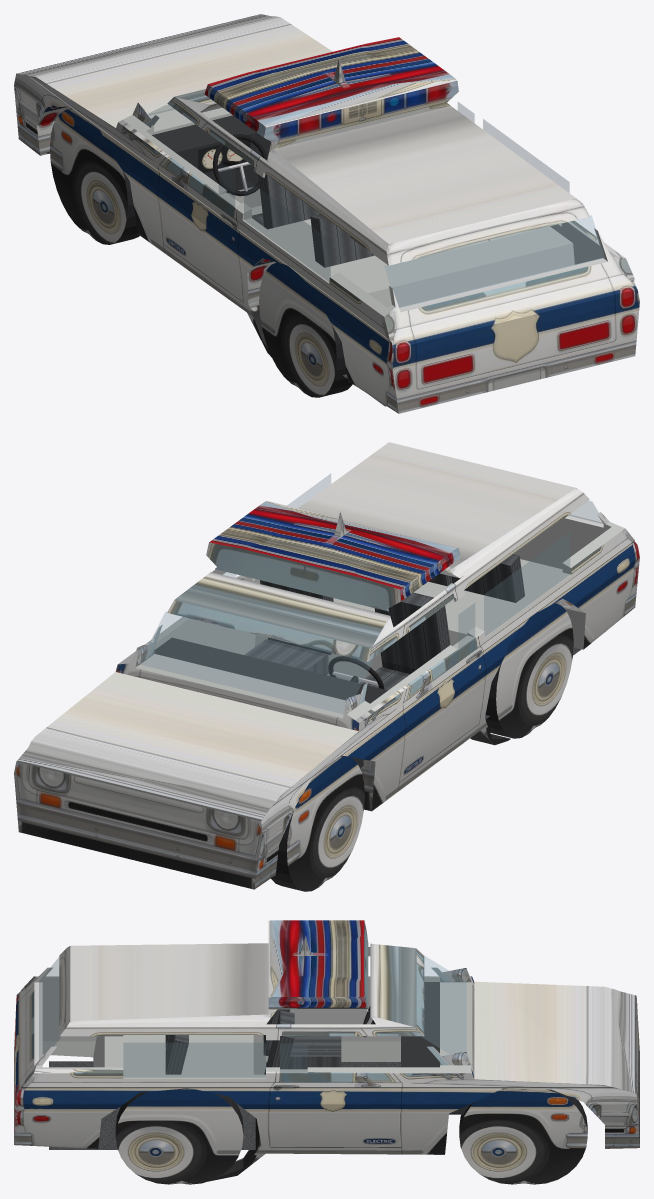
Rendered from police_suv.glb.
3 renders of one model, top to bottom at view 1: azimuth 30°, elevation 25°; view 2: azimuth 150°, elevation 25°; view 3: azimuth 270°, elevation 25°, orthographic. The views are drawn at different scales.
Parts seen in each view (by area): view 1: police_suv, police_suv_cabin, wheel_BL, wheel_FL, wheel_M1L, wheel_M2L; view 2: police_suv, police_suv_cabin, wheel_FL, wheel_M2L, wheel_BL, wheel_M1L; view 3: police_suv, police_suv_cabin, wheel_FR, wheel_BR, wheel_M2R, wheel_M1R.
Part boxes in pixels (bbox=[...]): police_suv: bbox=[14, 14, 639, 413]; police_suv_cabin: bbox=[148, 102, 604, 406]; wheel_BL: bbox=[274, 272, 352, 397]; wheel_FL: bbox=[50, 108, 113, 234]; wheel_M1L: bbox=[63, 121, 139, 244]; wheel_M2L: bbox=[259, 262, 323, 386]; police_suv: bbox=[14, 442, 639, 889]; police_suv_cabin: bbox=[139, 474, 602, 768]; wheel_FL: bbox=[271, 766, 351, 891]; wheel_M2L: bbox=[485, 613, 560, 738]; wheel_BL: bbox=[509, 603, 573, 728]; wheel_M1L: bbox=[301, 755, 364, 881]; police_suv: bbox=[14, 920, 639, 1181]; police_suv_cabin: bbox=[39, 956, 469, 1149]; wheel_FR: bbox=[481, 1089, 587, 1184]; wheel_BR: bbox=[115, 1089, 221, 1184]; wheel_M2R: bbox=[138, 1088, 243, 1184]; wheel_M1R: bbox=[459, 1088, 564, 1184].
Size of the model in its own units: 1.9 by 1.8 by 5.04.
Materials: 11 (4 with a texture image).
